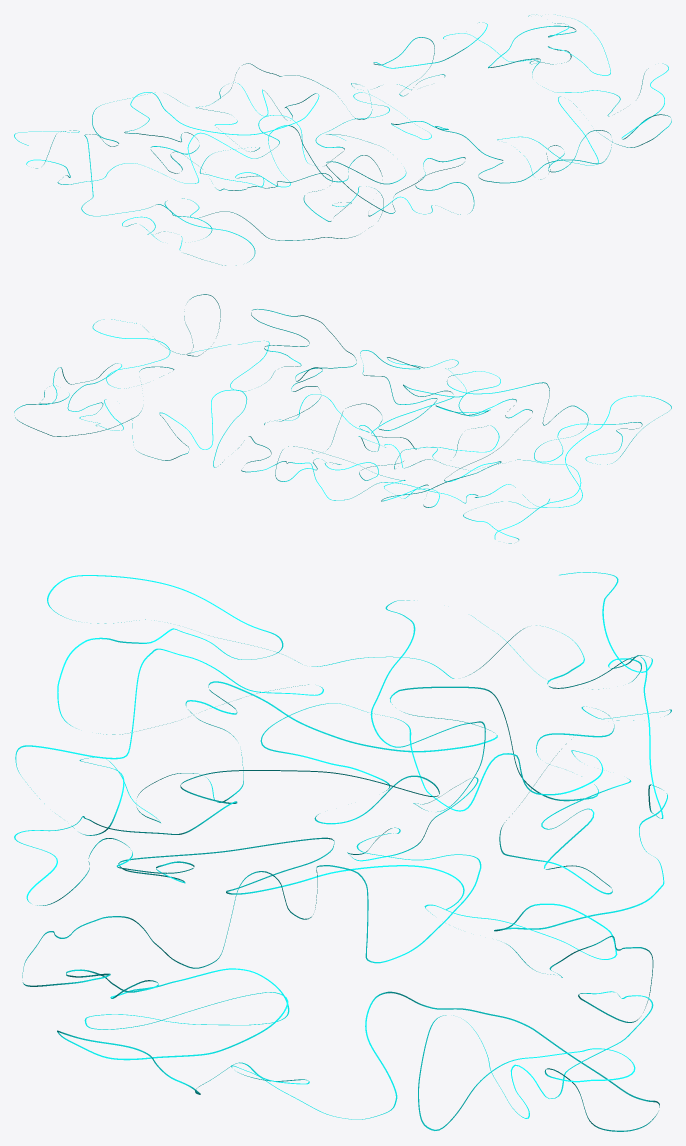
3 views of the same model, one above another, from view 1: azimuth 30°, elevation 25°; view 2: azimuth 150°, elevation 25°; view 3: azimuth 270°, elevation 25° (orthographic). The views are drawn at different scales.
Visible parts, largest first — view 1: T1_Line; view 2: T1_Line; view 3: T1_Line.
Part boxes in pixels (x1,y1,x2,y2): T1_Line: [14, 14, 671, 265]; T1_Line: [14, 294, 671, 543]; T1_Line: [14, 572, 671, 1131].
Size of the model in its own units: 419 by 30.24 by 230.
